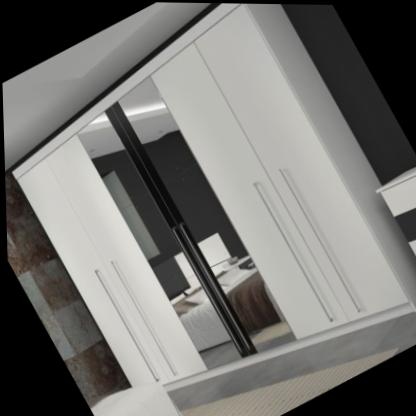Closet: (12, 3, 416, 388)
